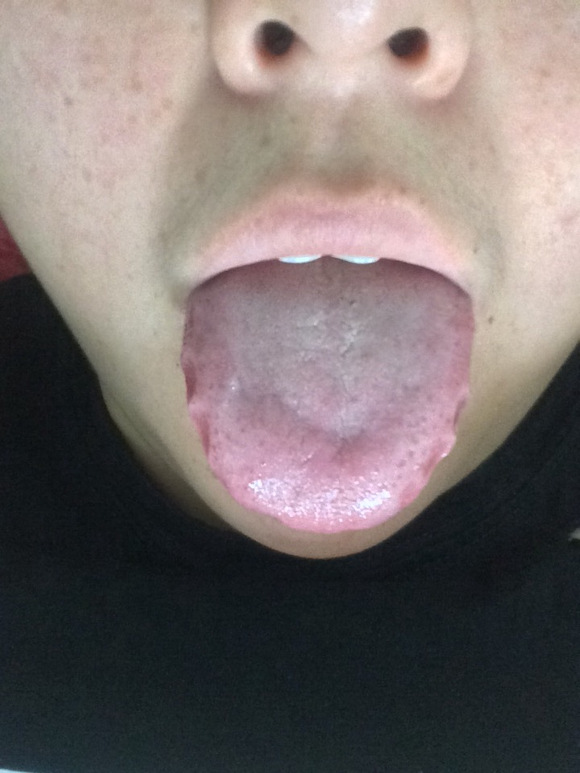baitaishe: (181, 259, 472, 533)
chihenshe: (448, 387, 472, 442), (188, 406, 212, 456), (181, 354, 198, 406)
